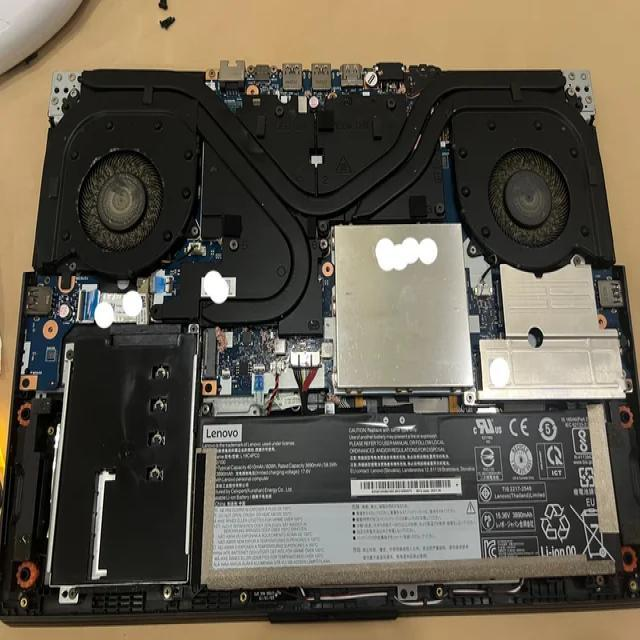NIC: (194, 410, 626, 587)
Screw: (432, 197, 446, 217), (274, 101, 287, 119), (384, 94, 396, 112)
